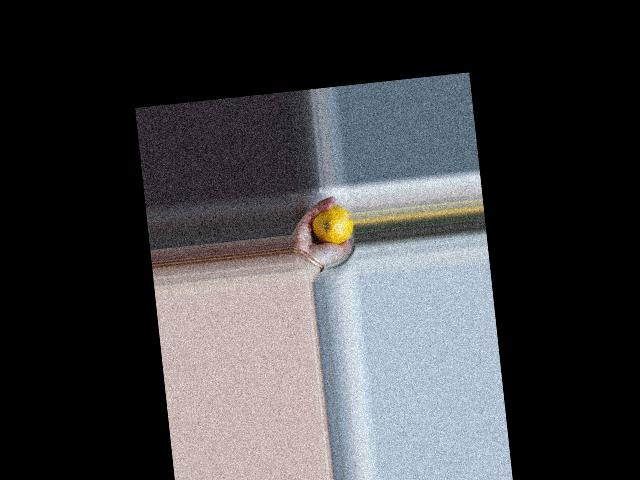lemon: (309, 203, 353, 244)
